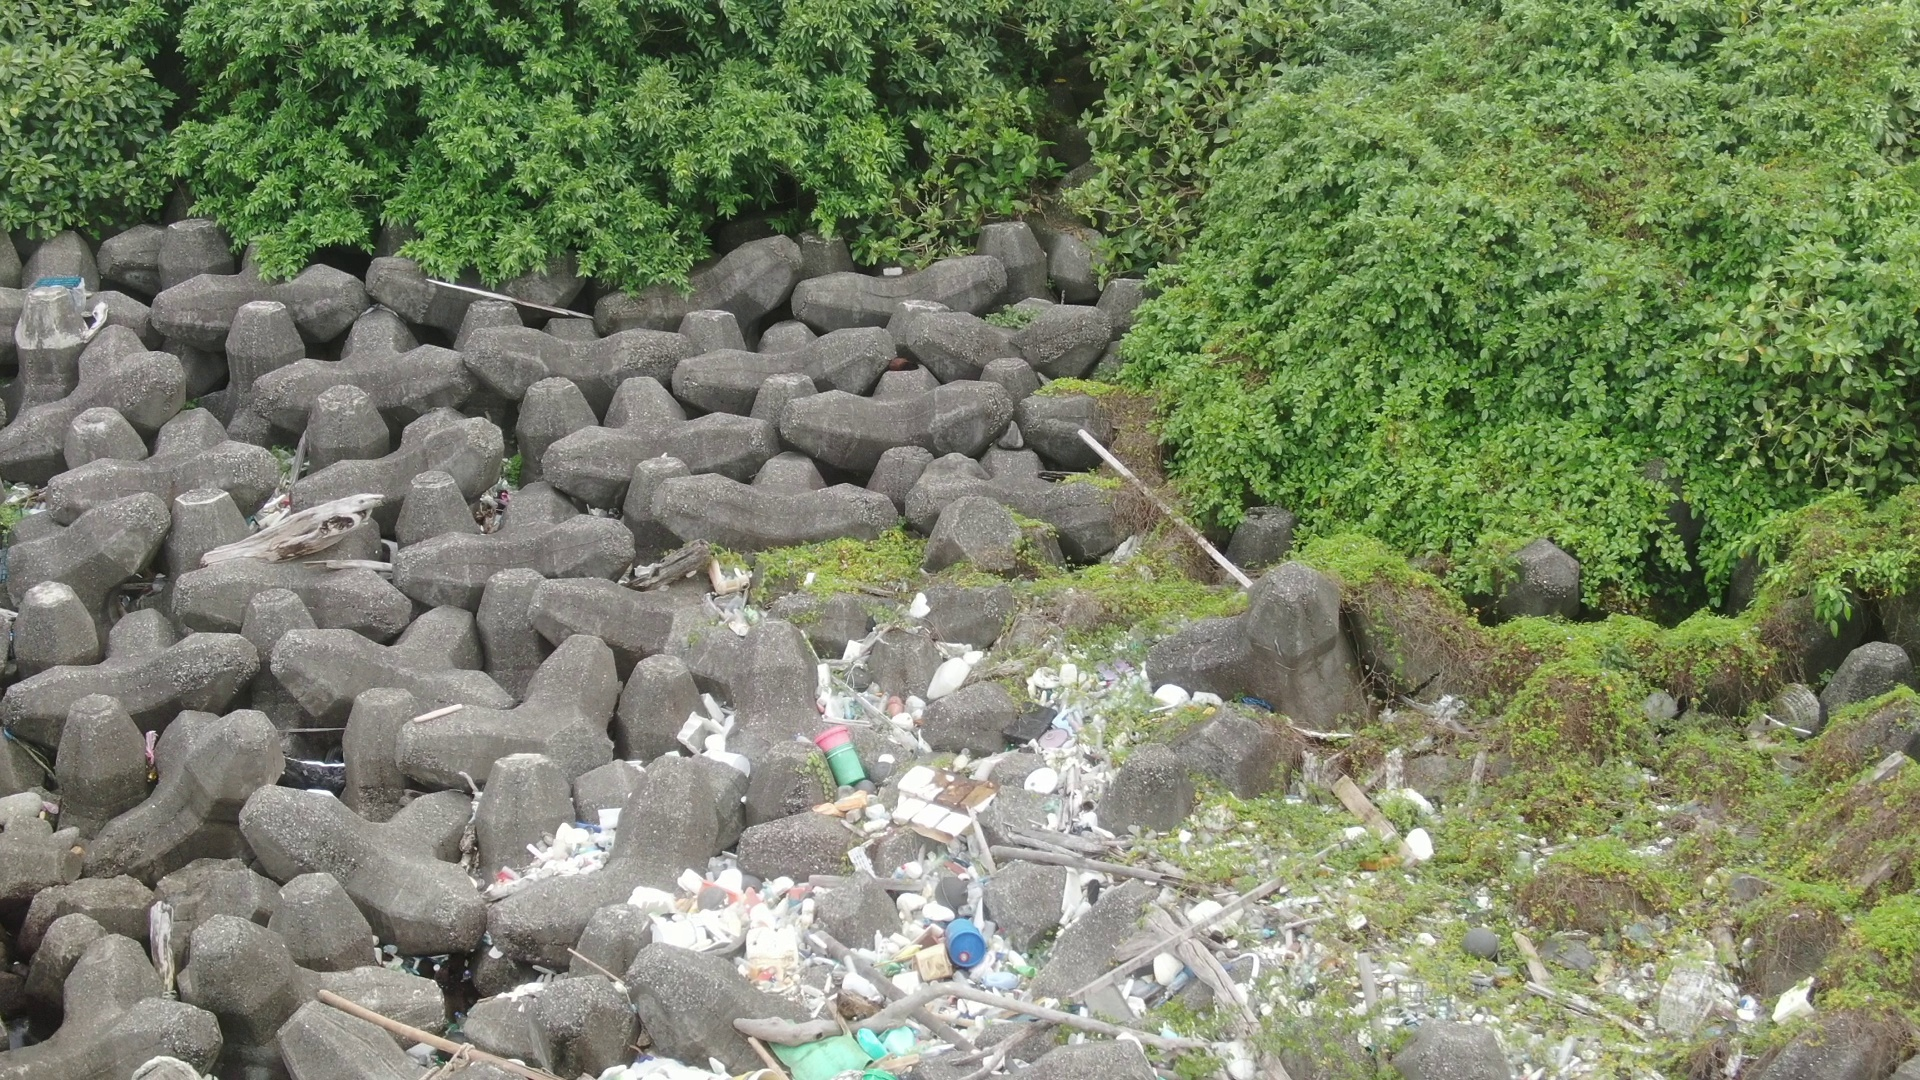garbage: (464, 579, 1342, 1080), (1342, 885, 1909, 1062), (462, 467, 527, 547), (375, 928, 459, 986), (20, 268, 102, 315), (132, 724, 167, 793)
